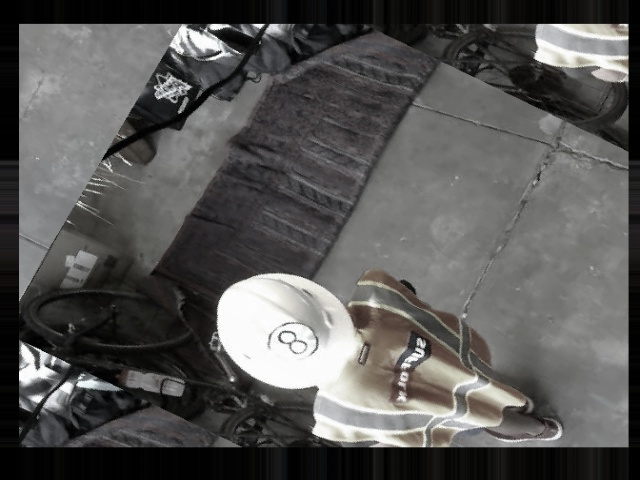eight: (260, 312, 324, 369)
